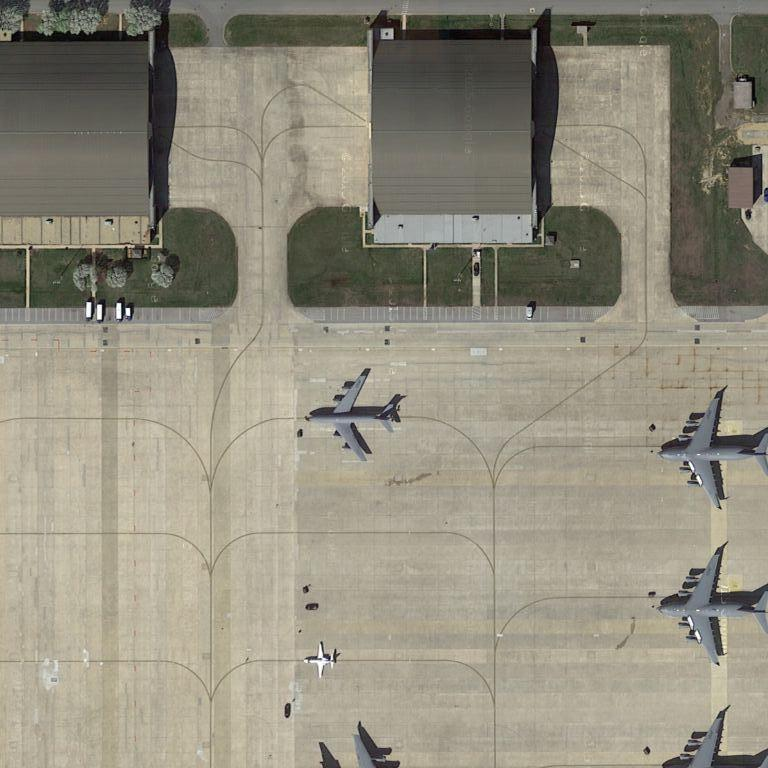C-17: (657, 540, 767, 673), (657, 386, 767, 512)
KC-135: (303, 364, 402, 469)
